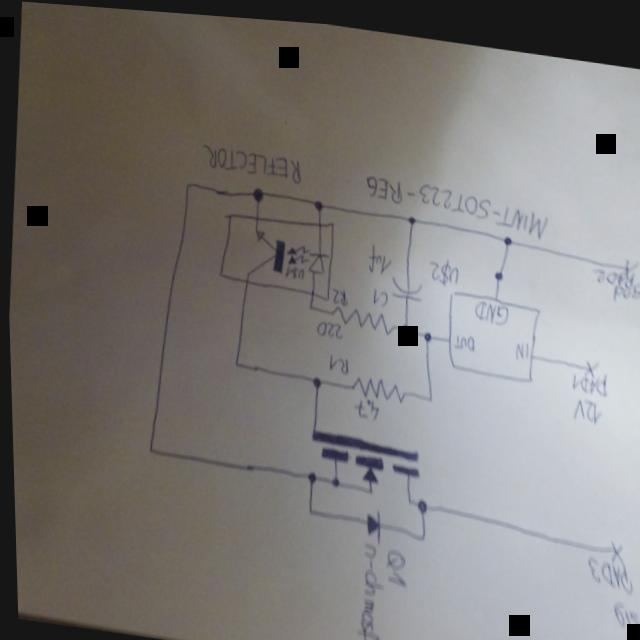capacitor: (388, 270, 424, 298)
diode: (360, 503, 381, 540)
junction: (302, 465, 318, 483), (250, 183, 264, 201), (418, 323, 432, 339), (398, 316, 411, 333), (309, 370, 321, 388), (414, 491, 425, 509), (312, 193, 323, 208), (501, 227, 512, 242), (405, 208, 416, 221), (423, 387, 433, 400), (415, 526, 424, 539), (303, 504, 313, 515), (144, 444, 153, 454), (231, 358, 238, 366), (184, 179, 191, 187), (307, 300, 313, 306)
resistor: (329, 299, 396, 334), (350, 364, 407, 401)
terminal: (618, 248, 640, 273), (605, 532, 623, 556), (580, 350, 598, 371)
text: (363, 168, 550, 234), (202, 135, 303, 180), (348, 535, 387, 640), (581, 544, 630, 586), (568, 354, 608, 392), (609, 595, 637, 634), (569, 387, 602, 419), (591, 259, 635, 283), (472, 293, 508, 321), (427, 252, 460, 281), (609, 269, 640, 298), (364, 238, 391, 271), (383, 543, 405, 580), (351, 392, 378, 418), (315, 315, 342, 337), (326, 349, 349, 372), (452, 326, 475, 347), (282, 260, 304, 280), (370, 281, 389, 304), (331, 282, 348, 304), (514, 334, 529, 355)
transistor: (303, 423, 422, 506)
